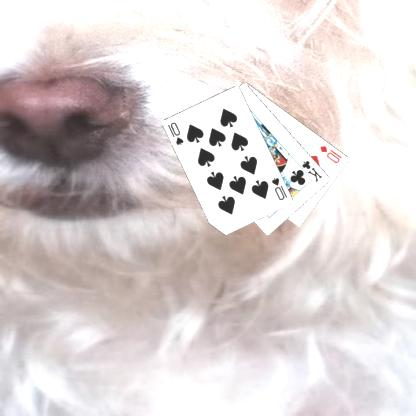10D: (317, 142, 343, 165)
10S: (269, 175, 289, 202), (165, 120, 185, 146)
KC: (294, 158, 324, 183)
